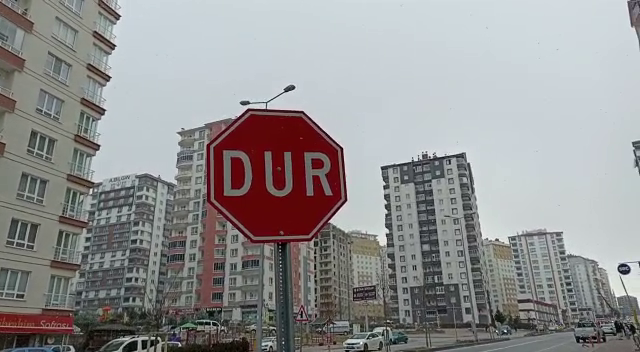stop: (203, 106, 350, 246)
